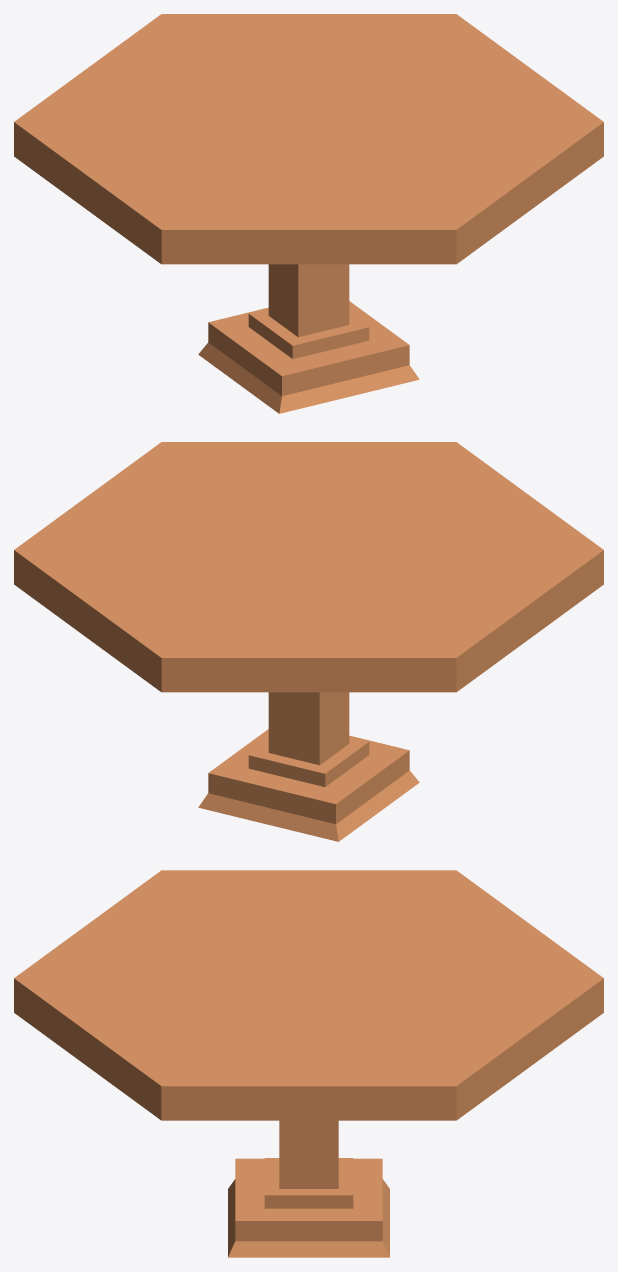
Rendered from tableRound.obj.
3 views of the same model, one above another, from view 1: azimuth 30°, elevation 25°; view 2: azimuth 150°, elevation 25°; view 3: azimuth 270°, elevation 25° (orthographic).
Parts seen in each view (by area): view 1: tableRound; view 2: tableRound; view 3: tableRound.
Boxes of the visible parts, bbox=[...] form: tableRound: bbox=[14, 14, 603, 413]; tableRound: bbox=[14, 442, 603, 841]; tableRound: bbox=[14, 870, 603, 1257].
Size of the model in its own units: 0.6928 by 0.3667 by 0.8.
